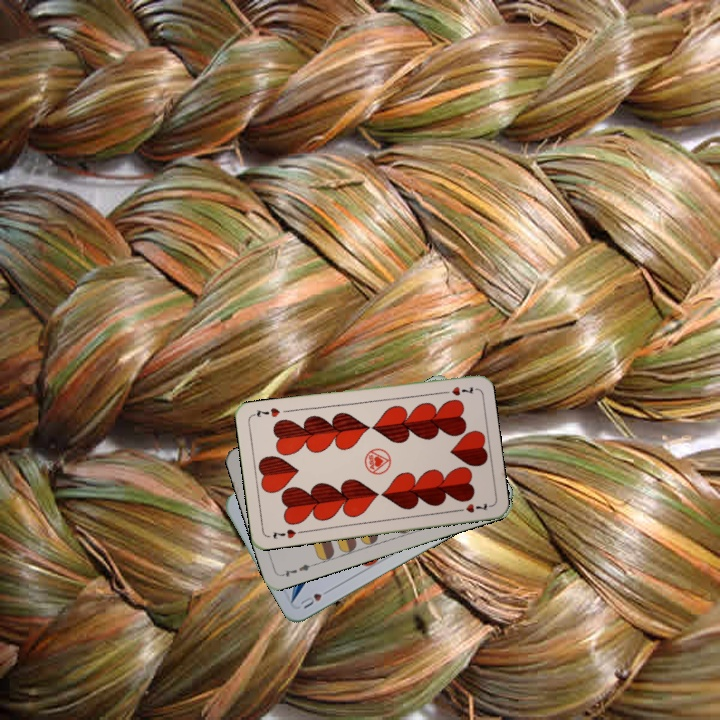E7: (277, 560, 317, 579)
H7: (437, 382, 477, 398), (268, 525, 306, 541)
HU: (296, 584, 333, 611)
